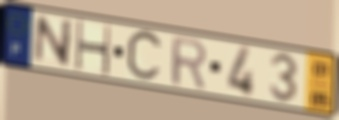3: (268, 52, 301, 105)
4: (225, 44, 258, 101)
C: (124, 28, 166, 85)
H: (74, 18, 113, 79)
N: (31, 14, 76, 69)
R: (169, 34, 209, 92)
